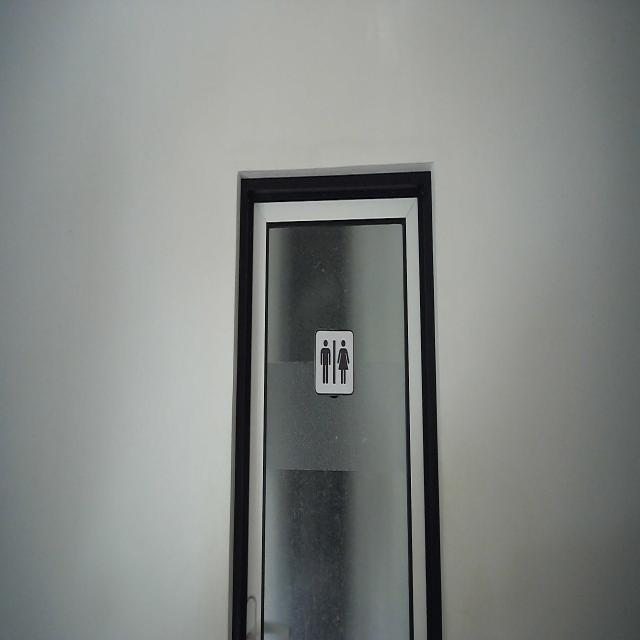restroom: (313, 327, 357, 397)
